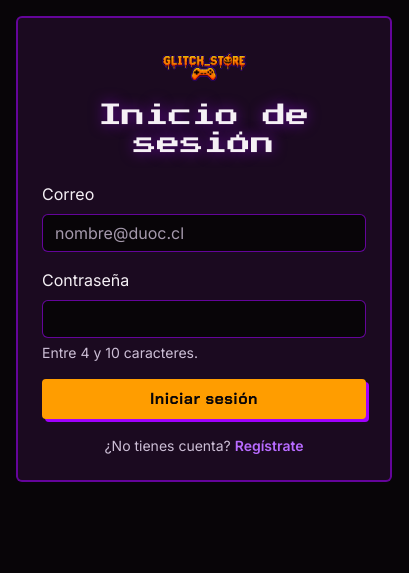
Scenario: Página Login › el mensaje de credenciales incorrectas solo aparece cuando fallan
Expected: the text "Correo o contraseña incorrectos." is not shown
Type "camila.rojas@duoc.cl" into the field labelled "Correo" at (204, 233), box [42,214,366,252]
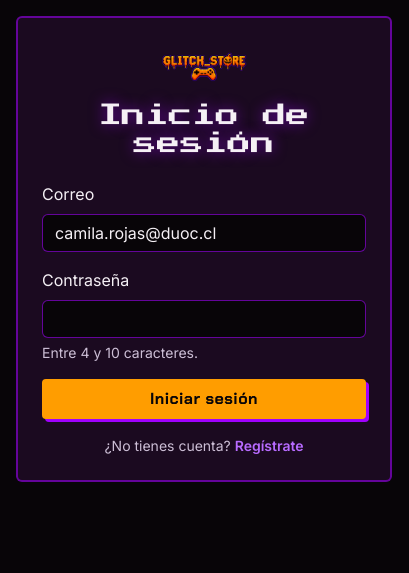
Type "otra1234" into the password field labelled "Contraseña" at (204, 319), box [42,300,366,338]
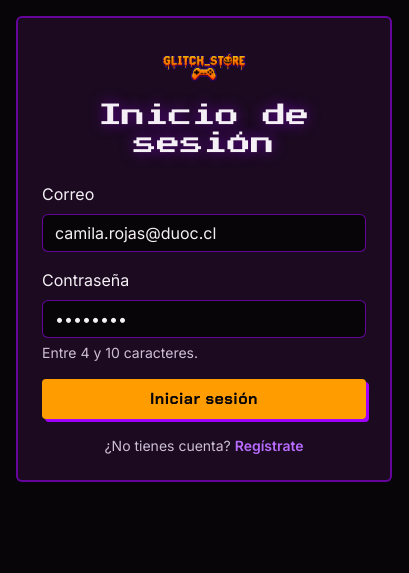
Click the button "Iniciar sesión" at (204, 399), box [42,379,366,419]
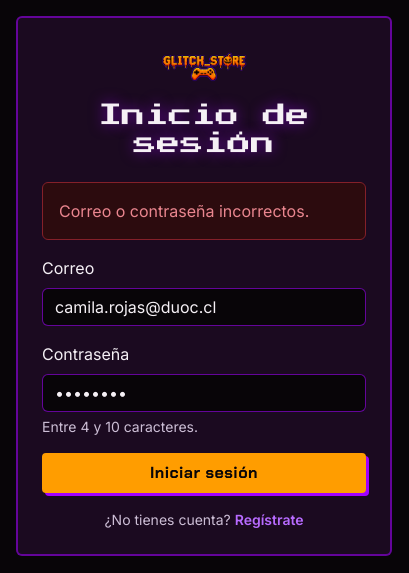
Now the text "Correo o contraseña incorrectos." is shown, box [59,199,309,223]
